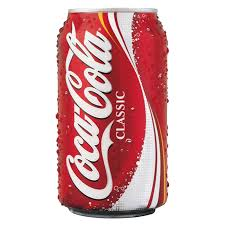can: (54, 3, 177, 221)
